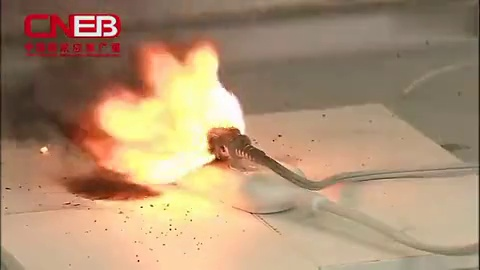fire: (73, 33, 254, 195)
